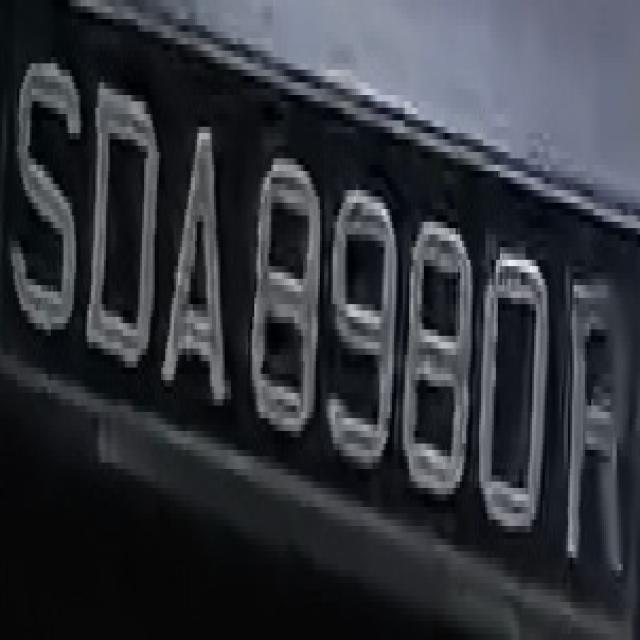0: (470, 222, 549, 526)
8: (250, 120, 320, 450), (402, 197, 474, 500)
9: (326, 164, 403, 500)
A: (159, 95, 227, 425)
D: (87, 82, 161, 386)
R: (562, 247, 630, 570)
S: (11, 45, 82, 368)
